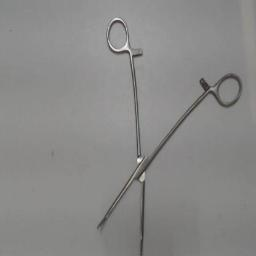Lahey Forceps: (90, 14, 246, 256)
